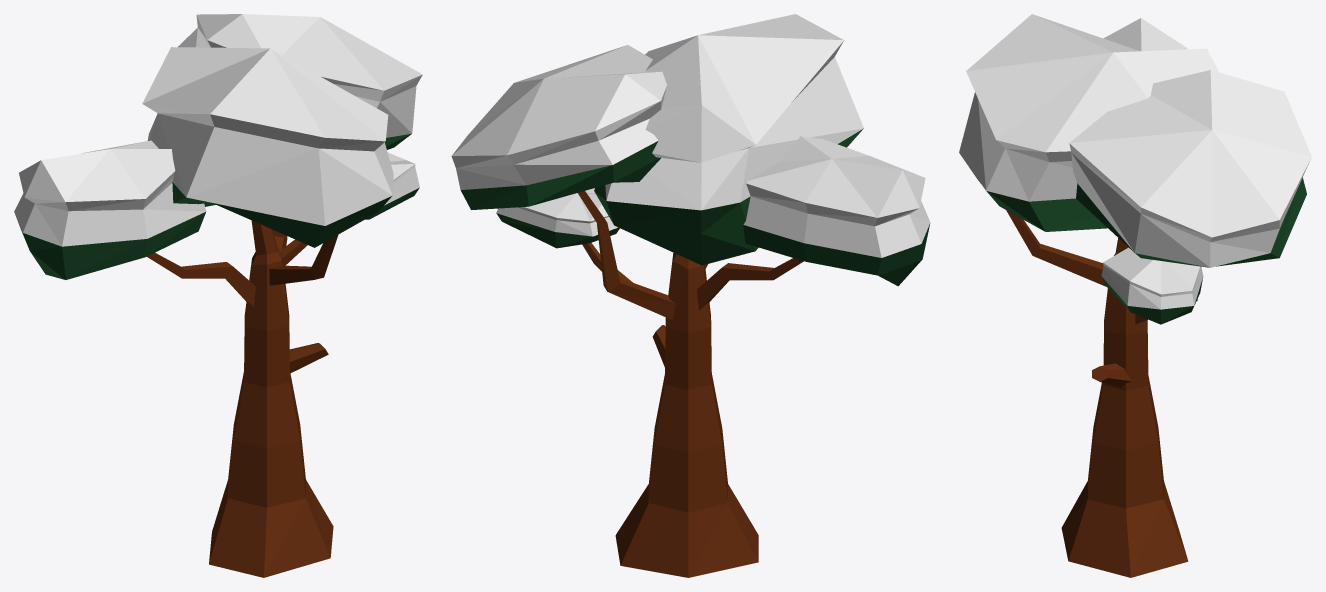
The model's file is WinterTree3.glb.
3 views of the same model, side by side, from view 1: azimuth 30°, elevation 25°; view 2: azimuth 150°, elevation 25°; view 3: azimuth 270°, elevation 25° (orthographic). The views are drawn at different scales.
Parts seen in each view (by area): view 1: Tree_Winter_005; view 2: Tree_Winter_005; view 3: Tree_Winter_005.
Part boxes in pixels (left/top/right/bottom): Tree_Winter_005: left=14, top=14, right=422, bottom=577; Tree_Winter_005: left=451, top=14, right=930, bottom=577; Tree_Winter_005: left=959, top=14, right=1311, bottom=577.
Size of the model in its own units: 4.6 by 5.4 by 3.52.
1 material, 1 textured.
